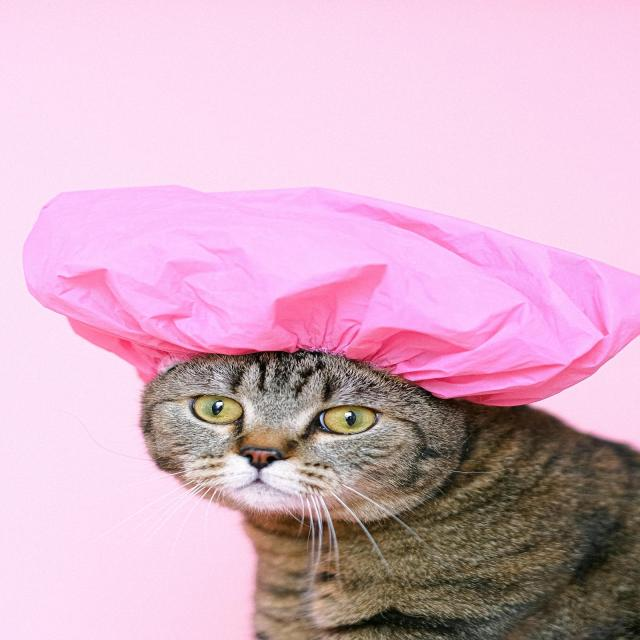Cat: (130, 347, 638, 639)
